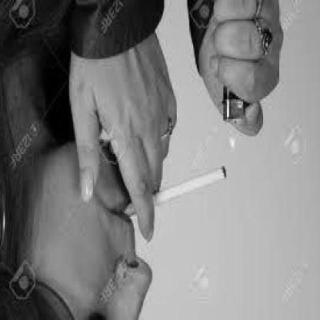Fire: (227, 132, 244, 152)
